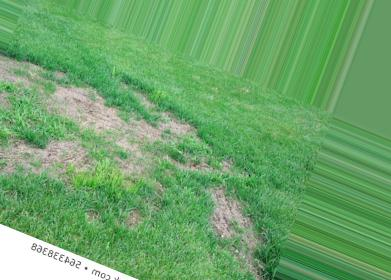patch: (65, 90, 153, 156), (20, 139, 66, 182), (205, 187, 238, 246), (7, 62, 40, 90)
